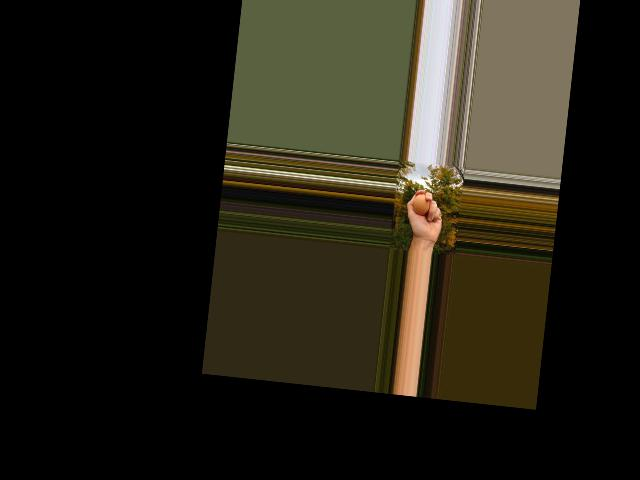egg: (412, 193, 431, 215)
